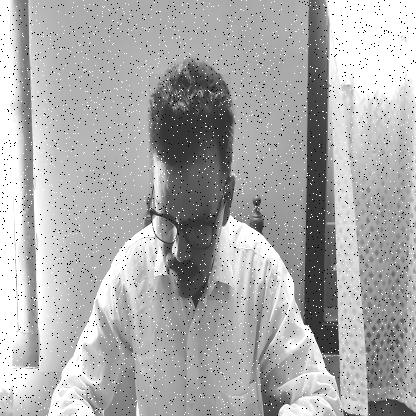Distracted: (149, 74, 231, 300)
